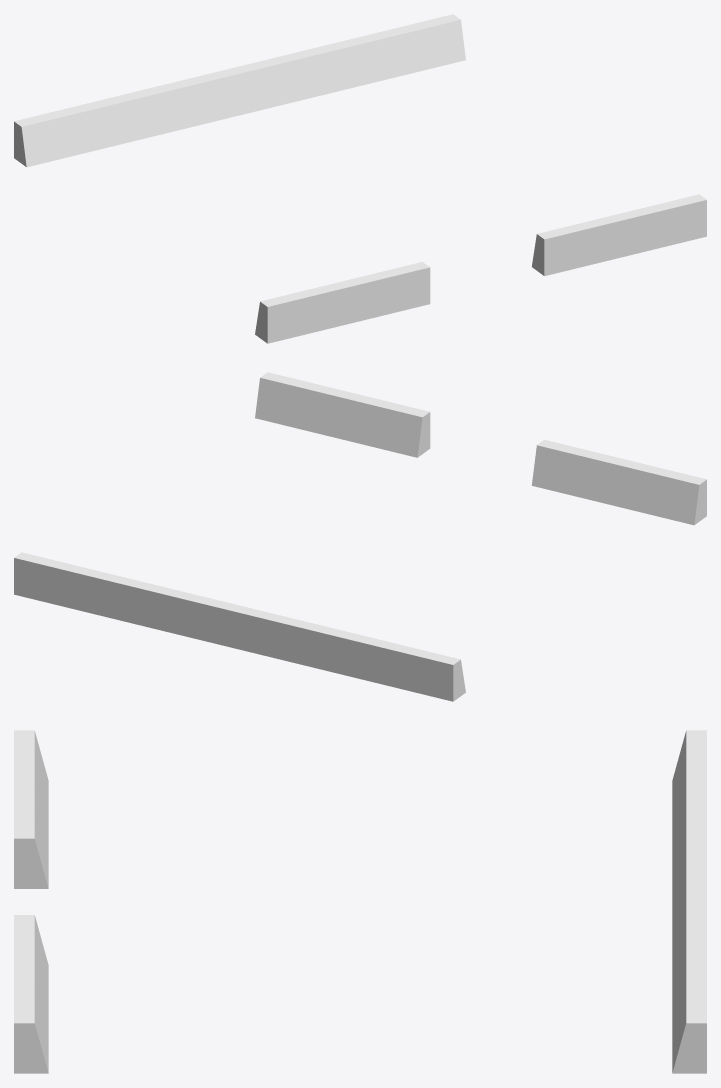
Rendered from road-driveway-single-barrier.glb.
The picture shows the model from 3 angles, top to bottom: view 1: azimuth 30°, elevation 25°; view 2: azimuth 150°, elevation 25°; view 3: azimuth 270°, elevation 25°; orthographic projection. The views are drawn at different scales.
Visible parts, largest first — view 1: road-driveway-single-barrier; view 2: road-driveway-single-barrier; view 3: road-driveway-single-barrier.
Boxes of the visible parts, box(x1,y1,x2,y2) form: road-driveway-single-barrier: box(14, 14, 706, 343); road-driveway-single-barrier: box(14, 372, 706, 701); road-driveway-single-barrier: box(14, 730, 706, 1073).
Size of the model in its own units: 1 by 0.08 by 1.
1 material, 1 textured.
